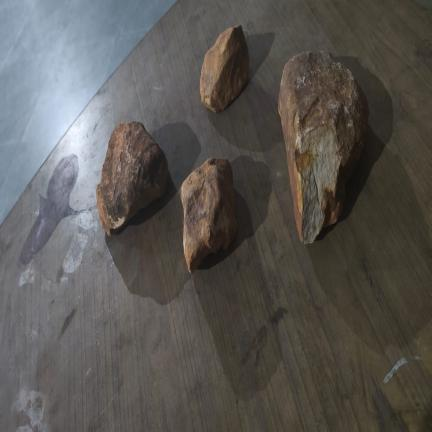Rocks: (279, 52, 368, 243), (97, 123, 168, 235), (181, 159, 235, 272), (200, 26, 249, 112)
